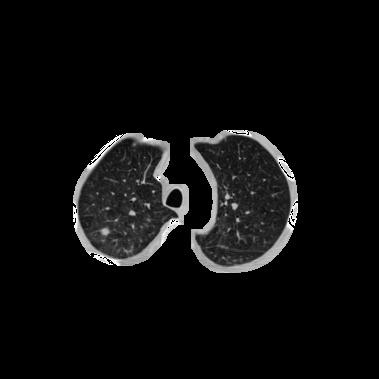PN: (100, 227, 108, 235)
